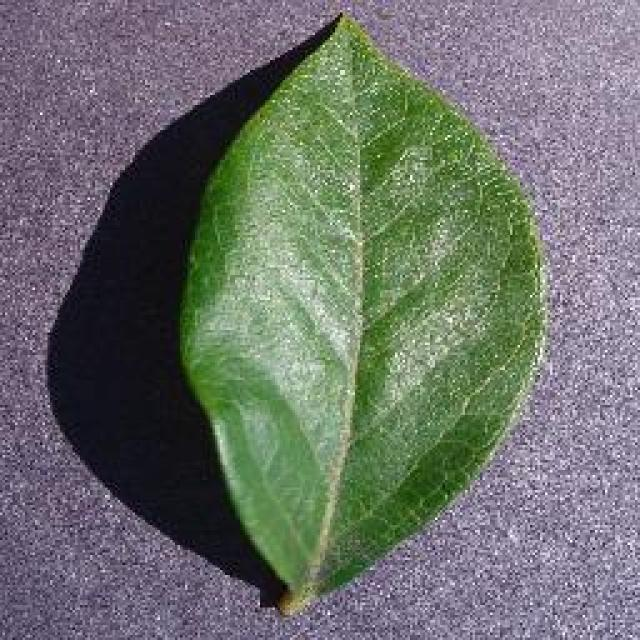Blu_healthy: (211, 88, 534, 532)
